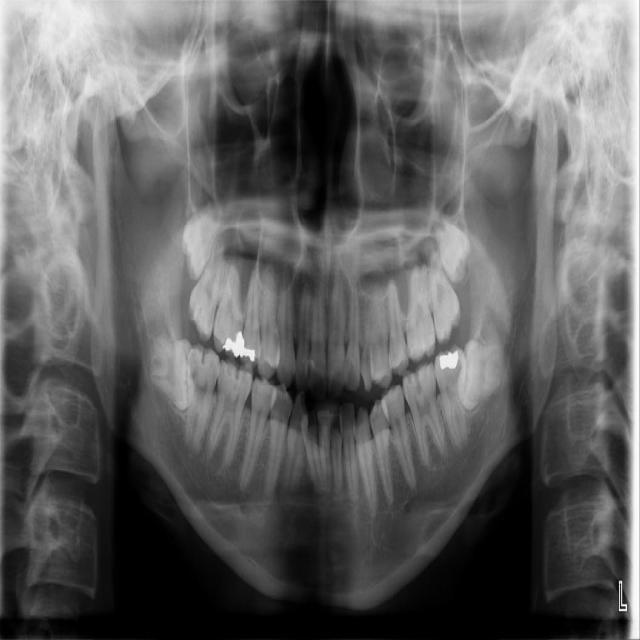Filling: (404, 362, 429, 396), (217, 361, 248, 385), (436, 348, 461, 375), (191, 346, 217, 371), (222, 332, 242, 356), (239, 337, 256, 360)
impacted tooth: (140, 338, 191, 409), (418, 207, 468, 277), (185, 191, 228, 272), (461, 340, 507, 410)
